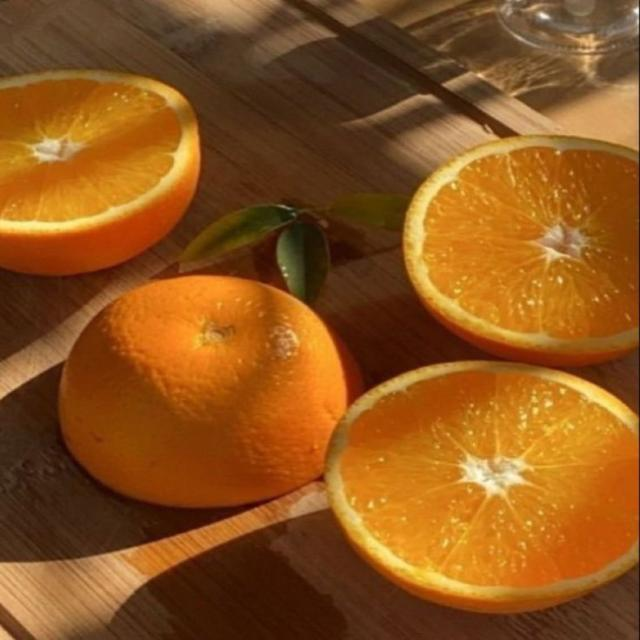orange: (327, 362, 638, 612), (60, 276, 361, 507), (405, 136, 638, 365), (0, 70, 199, 274)
